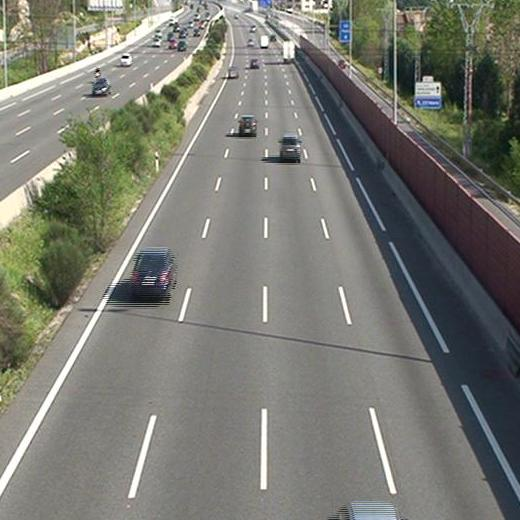car: (129, 249, 174, 298), (280, 135, 300, 159), (238, 116, 256, 135), (249, 58, 257, 68), (229, 66, 236, 77)
small-truck: (281, 40, 295, 63)
van: (259, 35, 269, 49)
